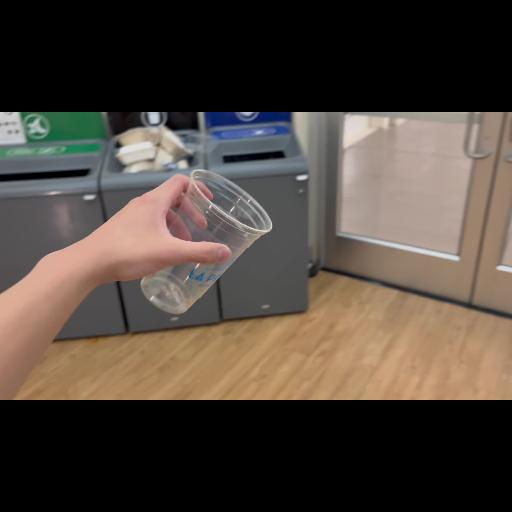lp_plastic_cup: (140, 168, 278, 316)
